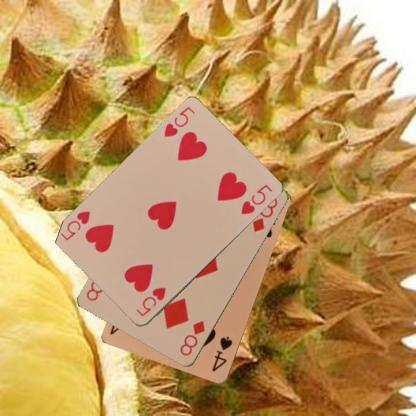4s: (209, 334, 234, 373)
5h: (162, 104, 197, 139), (133, 285, 167, 318)
8d: (177, 318, 207, 358)
